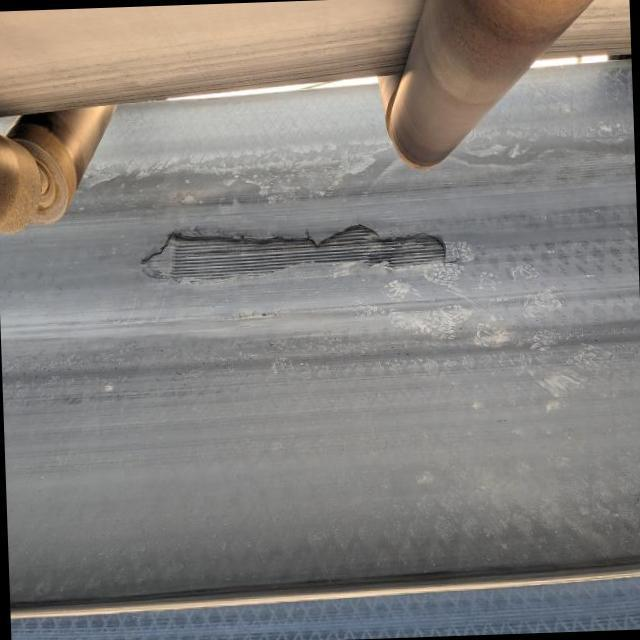Tear: (142, 219, 450, 288)
